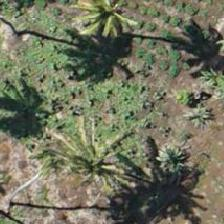coconut_tree: (69, 0, 159, 87), (0, 0, 45, 73)
